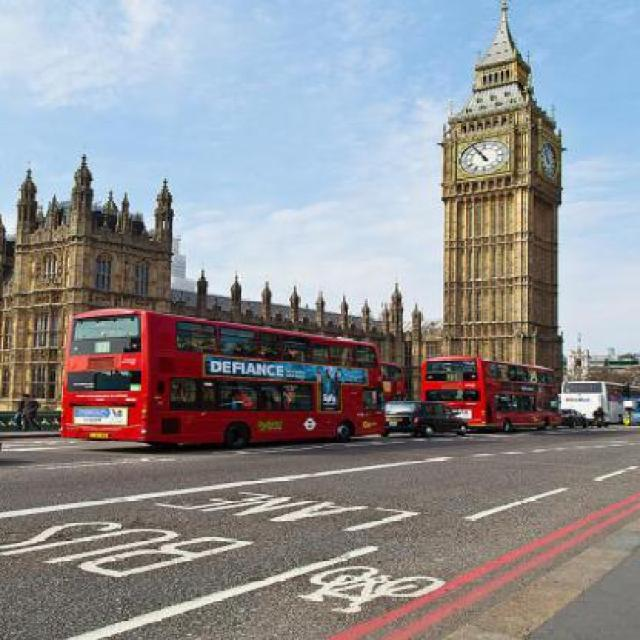Person: (20, 393, 43, 432), (11, 393, 24, 430), (230, 337, 248, 355), (227, 388, 242, 408), (238, 388, 252, 408), (592, 404, 602, 428), (224, 346, 238, 354)
